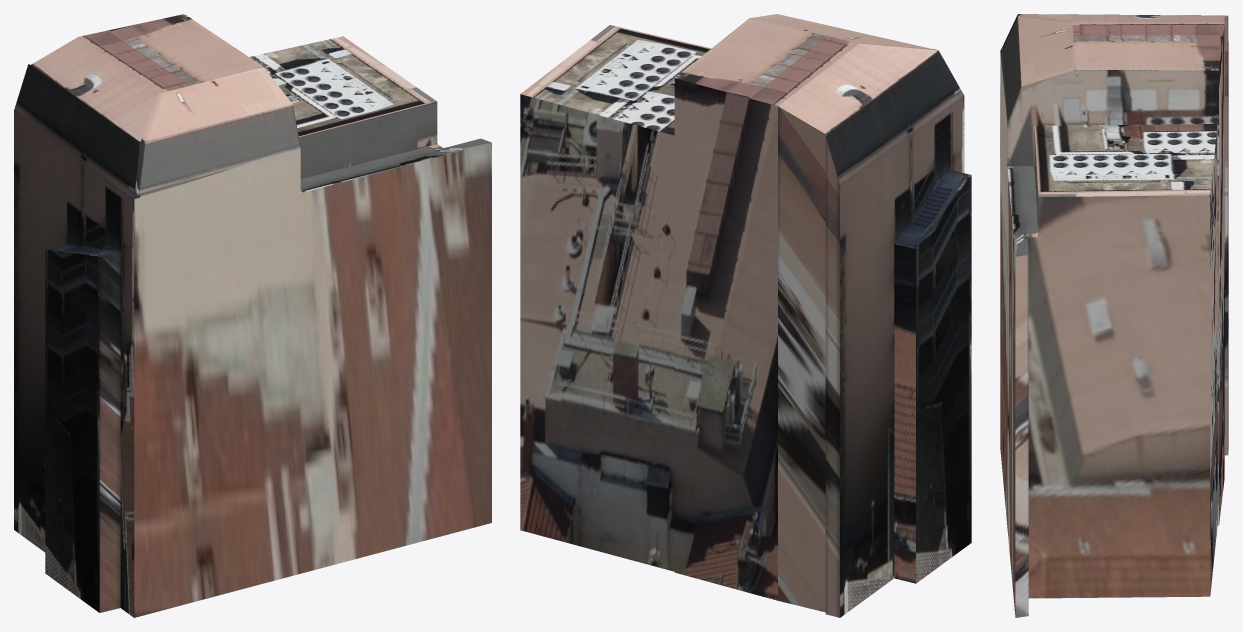
3 views of the same model, side by side, from view 1: azimuth 30°, elevation 25°; view 2: azimuth 150°, elevation 25°; view 3: azimuth 270°, elevation 25° (orthographic). The views are drawn at different scales.
Visible parts, largest first — view 1: Z_UP; view 2: Z_UP; view 3: Z_UP.
Boxes of the visible parts, box(x1,y1,x2,y2) form: Z_UP: box(14, 14, 491, 617); Z_UP: box(520, 14, 971, 617); Z_UP: box(1000, 14, 1228, 617).
Size of the model in its own units: 25.49 by 30.31 by 13.72.
2 materials, 1 textured.
